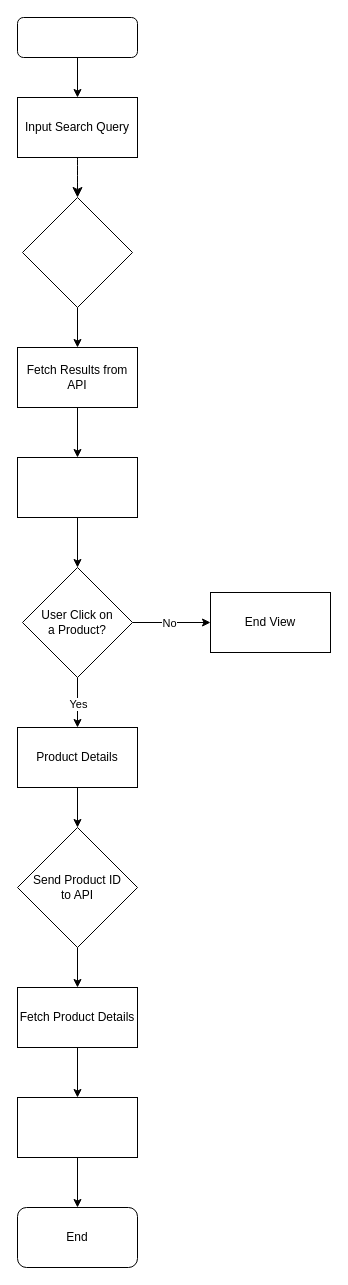
This 348x1285 diagram has some shape labels left out. The box of each missing label's shape, as (x1, y1, x2, y2) in pixels:
Display Product Details: (16, 1096, 138, 1158)
Display Search Results: (16, 456, 138, 518)
Send Search Query to API: (22, 196, 132, 308)
Start: (16, 16, 138, 58)
